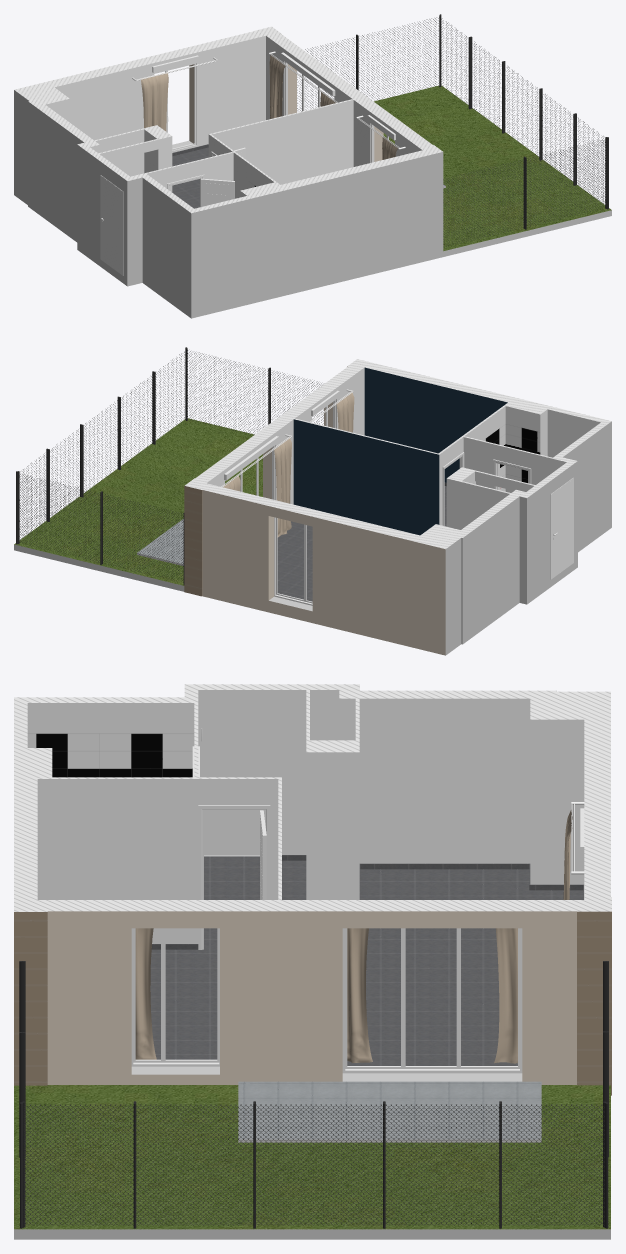
3 views of the same model, one above another, from view 1: azimuth 30°, elevation 25°; view 2: azimuth 150°, elevation 25°; view 3: azimuth 270°, elevation 25° (orthographic). The views are drawn at different scales.
Visible parts, largest first — view 1: masonry_01, ground_garden_01, fence_01, section_face_01, windows_01, door_01, curtain_03, ground_living_01, curtain_01, interior_door_panel_01, curtain_bar_01; view 2: masonry_01, ground_garden_01, wallpaint_01, fence_01, section_face_01, wallpaint_02, ground_living_01, door_01, windows_01, curtain_01, walltiles_simple_01, ground_terrace_01 (+2 smaller); view 3: masonry_01, ground_garden_01, fence_01, section_face_01, ground_terrace_01, ground_living_01, door_01, windows_01, ground_bed_01, walltiles_simple_01, ground_kitchen_01, curtain_01 (+4 smaller).
Part boxes in pixels (x1,y1,x2,y2): masonry_01: [14, 36, 611, 318]; ground_garden_01: [374, 85, 611, 251]; fence_01: [297, 14, 608, 246]; section_face_01: [14, 26, 442, 213]; windows_01: [152, 52, 395, 162]; door_01: [100, 175, 123, 275]; curtain_03: [141, 72, 168, 131]; ground_living_01: [172, 147, 208, 208]; curtain_01: [269, 54, 336, 118]; interior_door_panel_01: [200, 147, 245, 206]; curtain_bar_01: [132, 51, 405, 149]; masonry_01: [14, 366, 611, 655]; ground_garden_01: [14, 418, 262, 585]; wallpaint_01: [293, 419, 439, 535]; fence_01: [16, 347, 323, 584]; section_face_01: [185, 359, 611, 549]; wallpaint_02: [364, 367, 507, 482]; ground_living_01: [277, 521, 312, 601]; door_01: [550, 477, 573, 579]; windows_01: [224, 390, 339, 605]; curtain_01: [223, 437, 291, 537]; walltiles_simple_01: [505, 424, 540, 492]; ground_terrace_01: [137, 519, 183, 564]; masonry_01: [14, 690, 611, 1239]; ground_garden_01: [14, 1085, 610, 1229]; fence_01: [19, 961, 608, 1228]; section_face_01: [14, 684, 611, 911]; ground_terrace_01: [238, 1081, 541, 1139]; ground_living_01: [347, 928, 517, 1065]; door_01: [199, 714, 277, 856]; windows_01: [131, 808, 584, 1073]; ground_bed_01: [150, 949, 217, 1059]; walltiles_simple_01: [27, 733, 194, 777]; ground_kitchen_01: [360, 869, 583, 899]; curtain_01: [347, 928, 517, 1063].
Bounding box in the file's own units: 11.75 × 2.7 × 7.96.
Materials: 37 (36 with a texture image).
